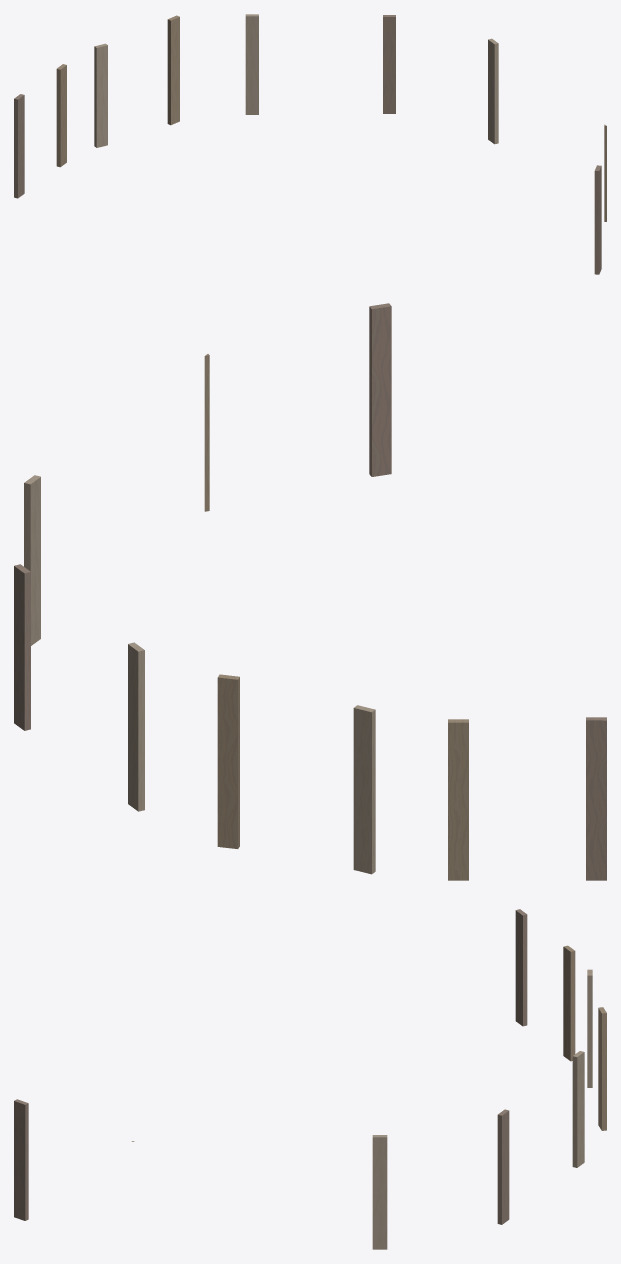
The model's file is kd_stage_135fe0_5_25_bounded.glb.
3 views of the same model, one above another, from view 1: azimuth 30°, elevation 25°; view 2: azimuth 150°, elevation 25°; view 3: azimuth 270°, elevation 25° (orthographic). The views are drawn at different scales.
Visible parts, largest first — view 1: kd_stage_135fe0_5_25_bounded; view 2: kd_stage_135fe0_5_25_bounded; view 3: kd_stage_135fe0_5_25_bounded.
Boxes of the visible parts, <box> form: kd_stage_135fe0_5_25_bounded: <box>14,14,606,274</box>; kd_stage_135fe0_5_25_bounded: <box>14,303,606,880</box>; kd_stage_135fe0_5_25_bounded: <box>14,909,606,1249</box>.
Size of the model in its own units: 2.09 by 0.4985 by 2.28.
Materials: 1 (1 with a texture image).
